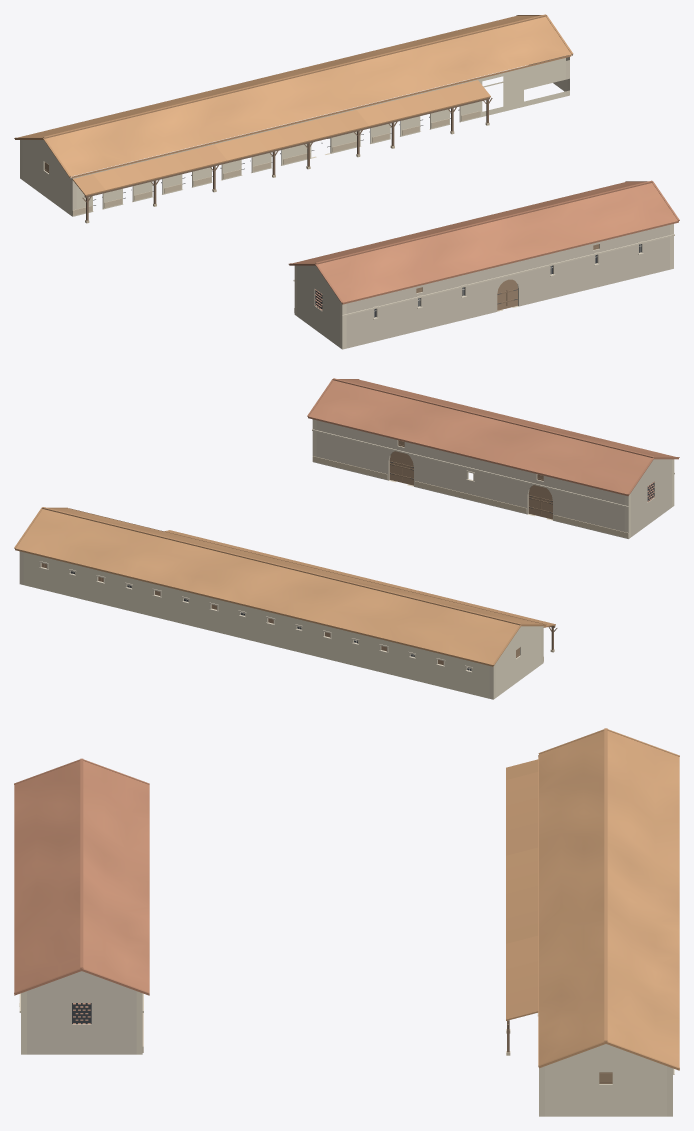
Rendered from SM_BM_BE_0_Stables.glb.
The picture shows the model from 3 angles, top to bottom: view 1: azimuth 30°, elevation 25°; view 2: azimuth 150°, elevation 25°; view 3: azimuth 270°, elevation 25°; orthographic projection. The views are drawn at different scales.
Visible parts, largest first — view 1: SM_BM_BE_0_Stables; view 2: SM_BM_BE_0_Stables; view 3: SM_BM_BE_0_Stables.
Boxes of the visible parts, bbox=[...] form: SM_BM_BE_0_Stables: bbox=[14, 14, 679, 349]; SM_BM_BE_0_Stables: bbox=[14, 378, 679, 699]; SM_BM_BE_0_Stables: bbox=[14, 728, 679, 1116].
Size of the model in its own units: 60.8 by 8.02 by 54.63.
